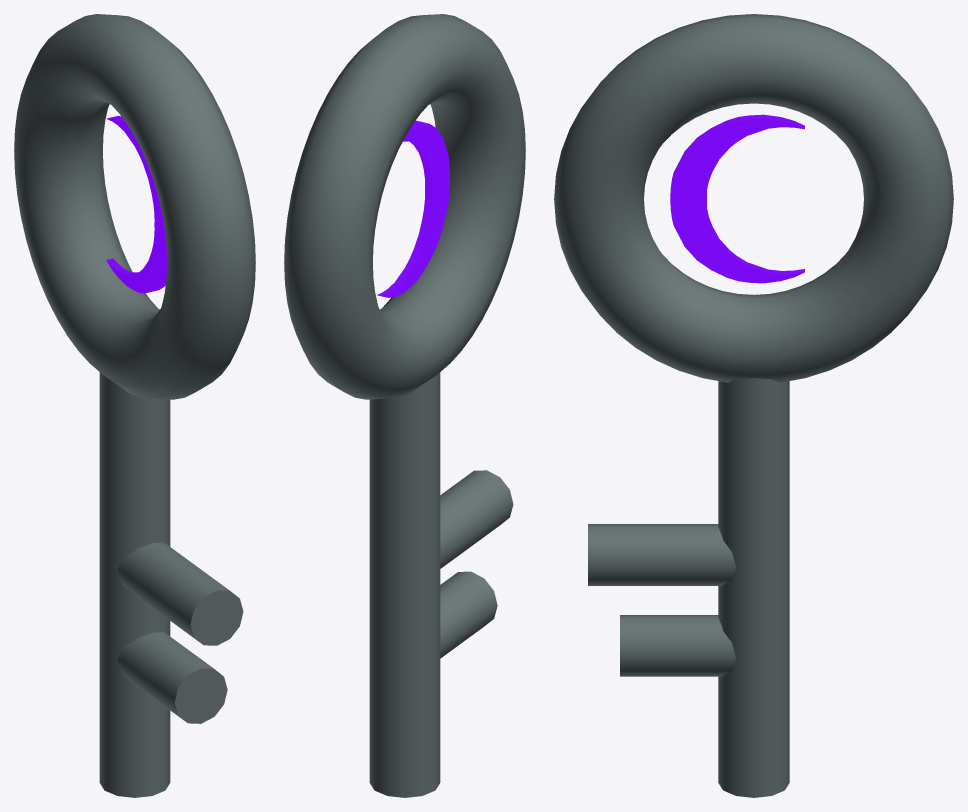
The model's file is shadow key.glb.
3 renders of one model, left to right at view 1: azimuth 30°, elevation 25°; view 2: azimuth 150°, elevation 25°; view 3: azimuth 270°, elevation 25°, orthographic.
Parts seen in each view (by area): view 1: Shadow Key, Key Trunk.001, Key Tooth 1.001, Key Tooth 2.001, Moon.001; view 2: Shadow Key, Key Trunk.001, Key Tooth 1.001, Moon.001, Key Tooth 2.001; view 3: Shadow Key, Key Trunk.001, Key Tooth 1.001, Moon.001, Key Tooth 2.001.
Boxes of the visible parts, x1,y1,x2,y2 form: Shadow Key: [14, 14, 255, 399]; Key Trunk.001: [99, 372, 170, 797]; Key Tooth 1.001: [117, 542, 243, 645]; Key Tooth 2.001: [117, 632, 227, 723]; Moon.001: [106, 116, 166, 293]; Shadow Key: [284, 14, 525, 399]; Key Trunk.001: [369, 372, 440, 797]; Key Tooth 1.001: [440, 470, 513, 568]; Moon.001: [377, 120, 449, 297]; Key Tooth 2.001: [440, 571, 497, 658]; Shadow Key: [554, 14, 953, 382]; Key Trunk.001: [718, 378, 789, 797]; Key Tooth 1.001: [588, 524, 736, 585]; Moon.001: [670, 114, 804, 283]; Key Tooth 2.001: [620, 615, 736, 676].
Bounding box in the file's own units: 0.0664 × 0.6234 × 0.2953.
